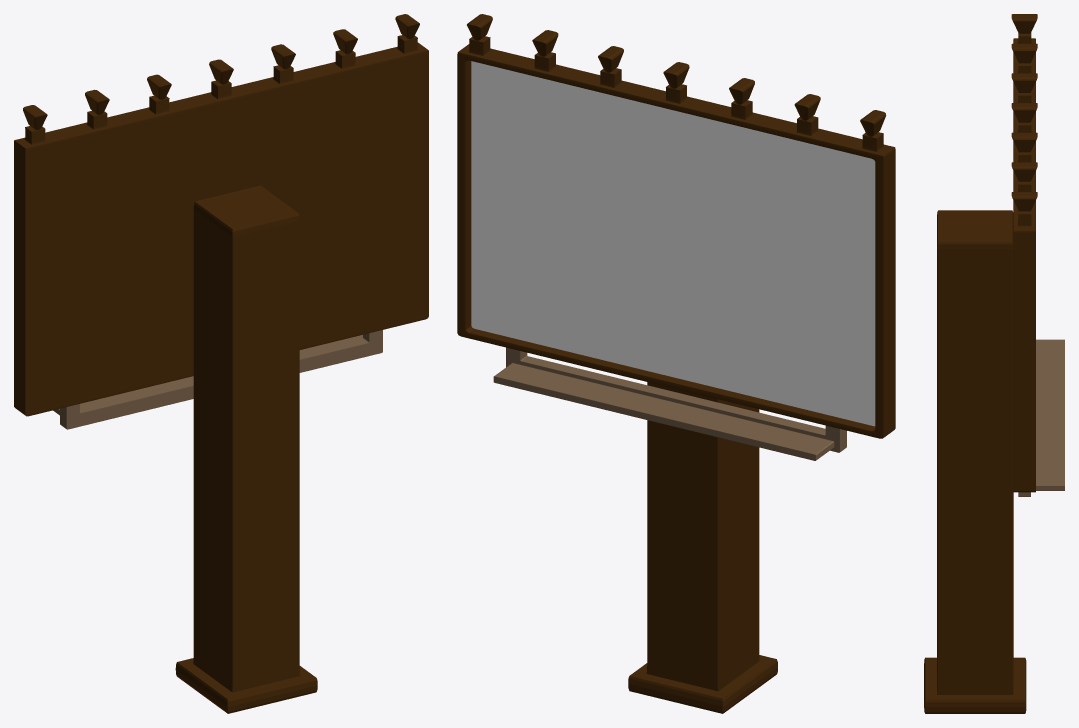
File: Billboard 1.fbx
The picture shows the model from 3 angles, left to right: view 1: azimuth 30°, elevation 25°; view 2: azimuth 150°, elevation 25°; view 3: azimuth 270°, elevation 25°; orthographic projection. The views are drawn at different scales.
Visible parts, largest first — view 1: Billboard Edge, Pole, HanginThing; view 2: Poster Place, Pole, Billboard Edge, HanginThing; view 3: Pole, Billboard Edge, HanginThing.
Part boxes in pixels (x1,y1,x2,y2): Billboard Edge: [14, 14, 428, 416]; Pole: [175, 185, 317, 713]; HanginThing: [53, 330, 382, 429]; Poster Place: [471, 61, 875, 426]; Pole: [628, 382, 777, 713]; Billboard Edge: [457, 14, 895, 438]; HanginThing: [493, 347, 846, 460]; Pole: [924, 210, 1026, 713]; Billboard Edge: [1011, 14, 1037, 492]; HanginThing: [1018, 339, 1064, 496].
Size of the model in its own units: 1190 by 1692 by 368.
